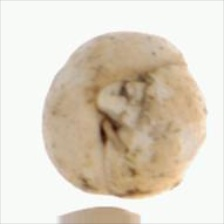L3: (90, 72, 151, 143)
L4: (42, 32, 206, 198)
